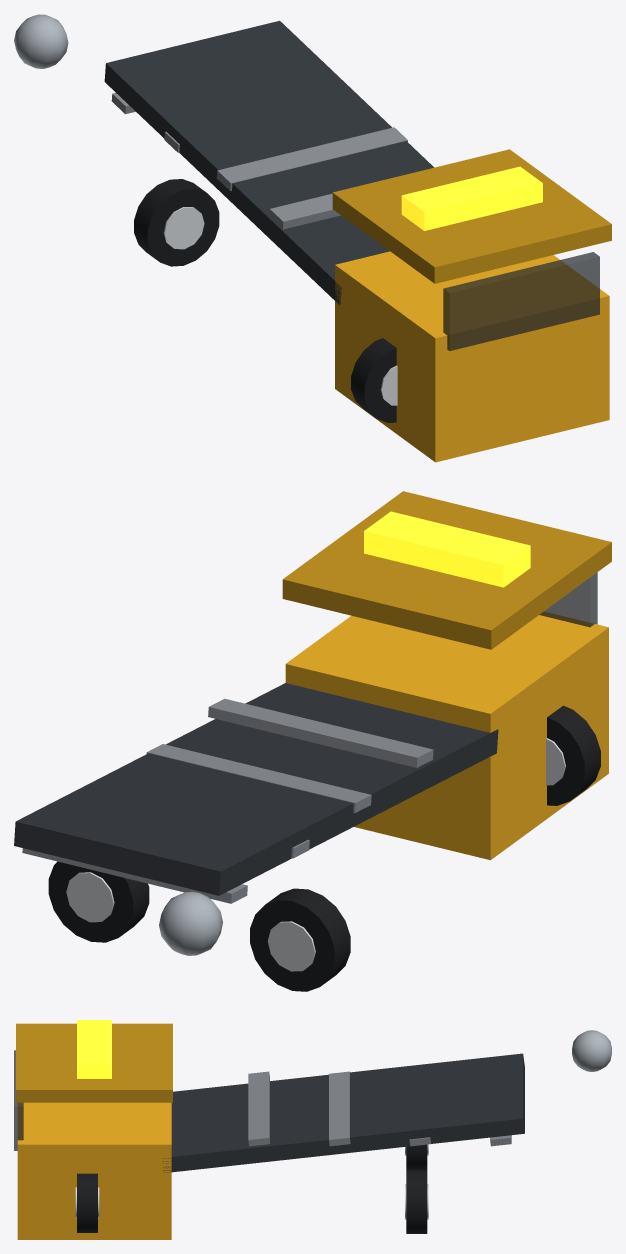
The model's file is tow-truck.glb.
3 renders of one model, top to bottom at view 1: azimuth 30°, elevation 25°; view 2: azimuth 150°, elevation 25°; view 3: azimuth 270°, elevation 25°, orthographic. The views are drawn at different scales.
Parts seen in each view (by area): view 1: tow-truck; view 2: tow-truck; view 3: tow-truck.
Part boxes in pixels (bbox=[...]): tow-truck: bbox=[14, 14, 611, 462]; tow-truck: bbox=[14, 491, 611, 991]; tow-truck: bbox=[14, 1020, 611, 1239].
Size of the model in its own units: 3.18 by 2.6 by 8.54.
